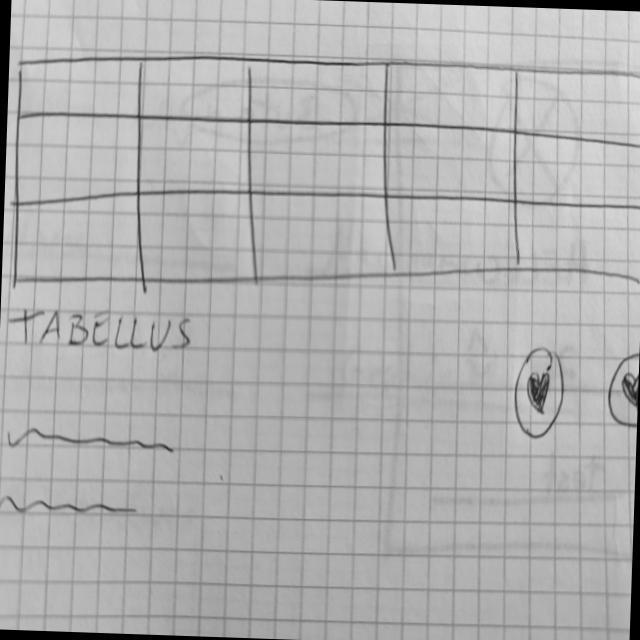icon-button: (512, 344, 568, 445), (607, 350, 640, 431)
label: (6, 303, 196, 359)
table: (7, 41, 640, 307)
text: (3, 421, 176, 463), (1, 488, 144, 526)
